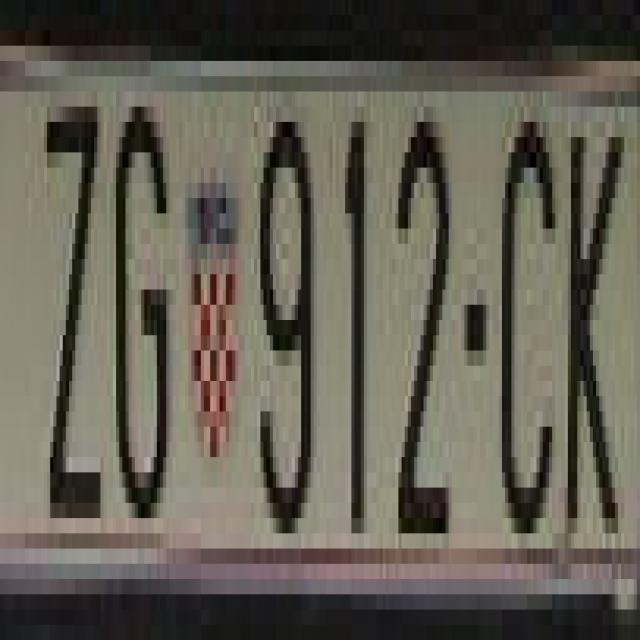1: (336, 61, 374, 564)
2: (392, 76, 455, 549)
9: (251, 46, 311, 534)
C: (498, 106, 556, 548)
G: (106, 91, 170, 564)
K: (564, 106, 630, 548)
Z: (40, 61, 100, 534)
